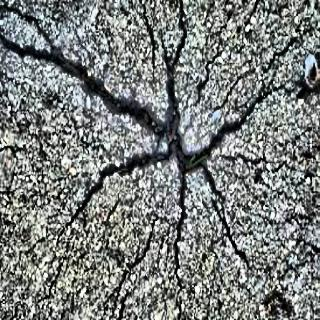crack: (4, 11, 316, 256)
